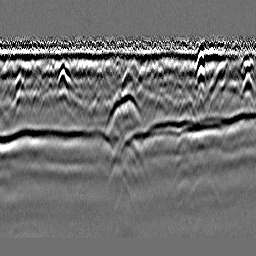cavity: (120, 66, 136, 94)
